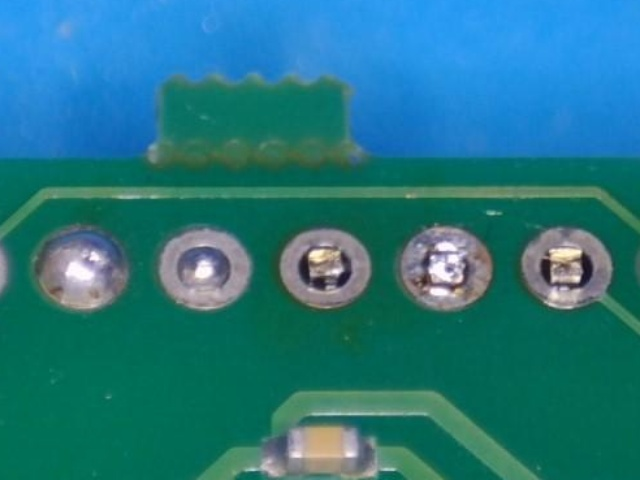pcb_defect: (398, 227, 491, 308), (155, 229, 248, 310), (35, 227, 127, 308)
